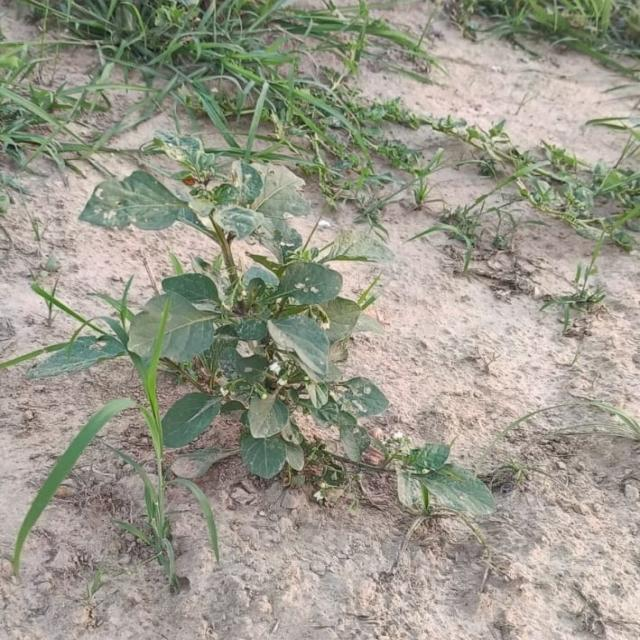weed: (34, 134, 388, 480), (398, 447, 496, 515)
